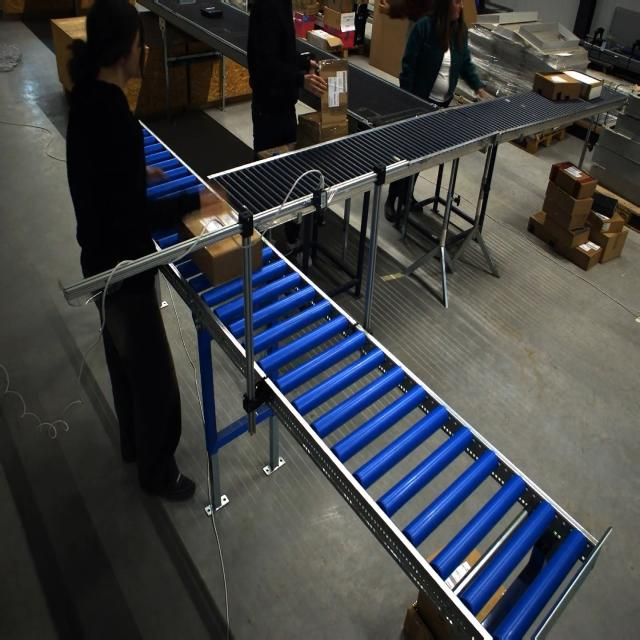box: (182, 200, 264, 290), (519, 21, 586, 59), (301, 109, 345, 145)
product: (200, 6, 223, 18), (299, 52, 311, 73)
